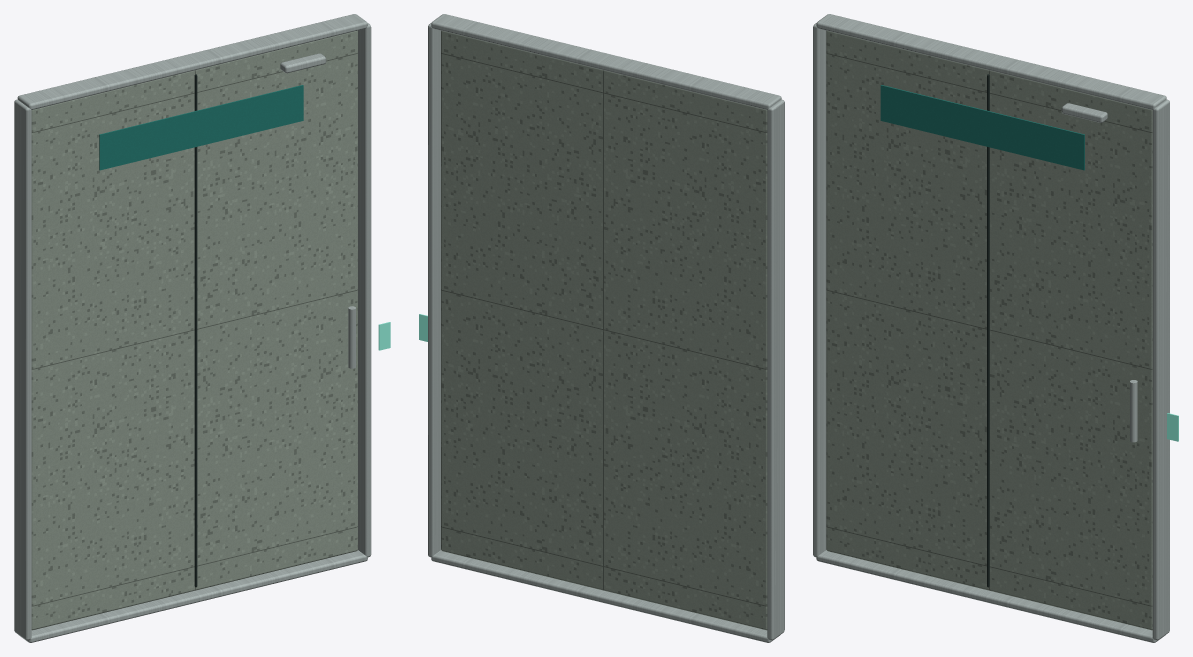
Rendered from detail-lift-door-1.glb.
3 renders of one model, left to right at view 1: azimuth 30°, elevation 25°; view 2: azimuth 150°, elevation 25°; view 3: azimuth 330°, elevation 25°, orthographic.
Parts seen in each view (by area): view 1: door_panel, frame_side (×2), frame_rail (×2), label_room_sign, door_seam, closer; view 2: door_panel, frame_side (×2), frame_rail (×2); view 3: door_panel, frame_side (×2), frame_rail (×2), label_room_sign, door_seam, closer.
Part boxes in pixels (bbox=[...]): door_panel: bbox=[31, 30, 357, 630]; frame_side (×2): bbox=[14, 23, 371, 640]; frame_rail (×2): bbox=[17, 14, 367, 642]; label_room_sign: bbox=[99, 85, 303, 170]; door_seam: bbox=[194, 74, 197, 587]; closer: bbox=[280, 53, 326, 73]; door_panel: bbox=[441, 30, 767, 630]; frame_side (×2): bbox=[428, 22, 784, 640]; frame_rail (×2): bbox=[431, 14, 781, 642]; door_panel: bbox=[826, 30, 1152, 630]; frame_side (×2): bbox=[813, 23, 1169, 640]; frame_rail (×2): bbox=[816, 14, 1166, 642]; label_room_sign: bbox=[880, 85, 1084, 170]; door_seam: bbox=[987, 74, 989, 587]; closer: bbox=[1061, 103, 1107, 122].
Bounding box in the file's own units: 1.94 × 2.74 × 0.17.
Materials: 5 (4 with a texture image).
